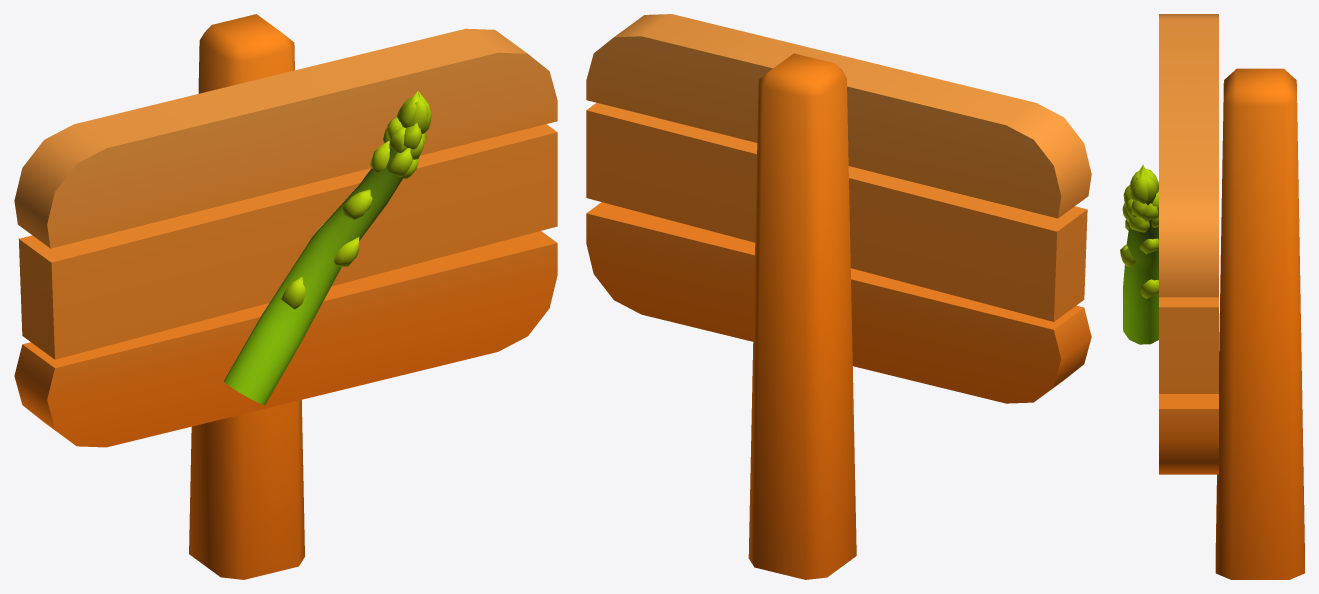
Rendered from Farm_Crop_Sign_Asparagus_01.fbx.
3 views of the same model, side by side, from view 1: azimuth 30°, elevation 25°; view 2: azimuth 150°, elevation 25°; view 3: azimuth 270°, elevation 25° (orthographic). The views are drawn at different scales.
Parts seen in each view (by area): view 1: Farm_Crop_Sign_Asparagus_01; view 2: Farm_Crop_Sign_Asparagus_01; view 3: Farm_Crop_Sign_Asparagus_01.
Part boxes in pixels (left/top/right/bottom): Farm_Crop_Sign_Asparagus_01: left=14, top=14, right=557, bottom=579; Farm_Crop_Sign_Asparagus_01: left=586, top=14, right=1091, bottom=579; Farm_Crop_Sign_Asparagus_01: left=1120, top=14, right=1304, bottom=579.
Size of the model in its own units: 90.11 by 88.8 by 30.84.
